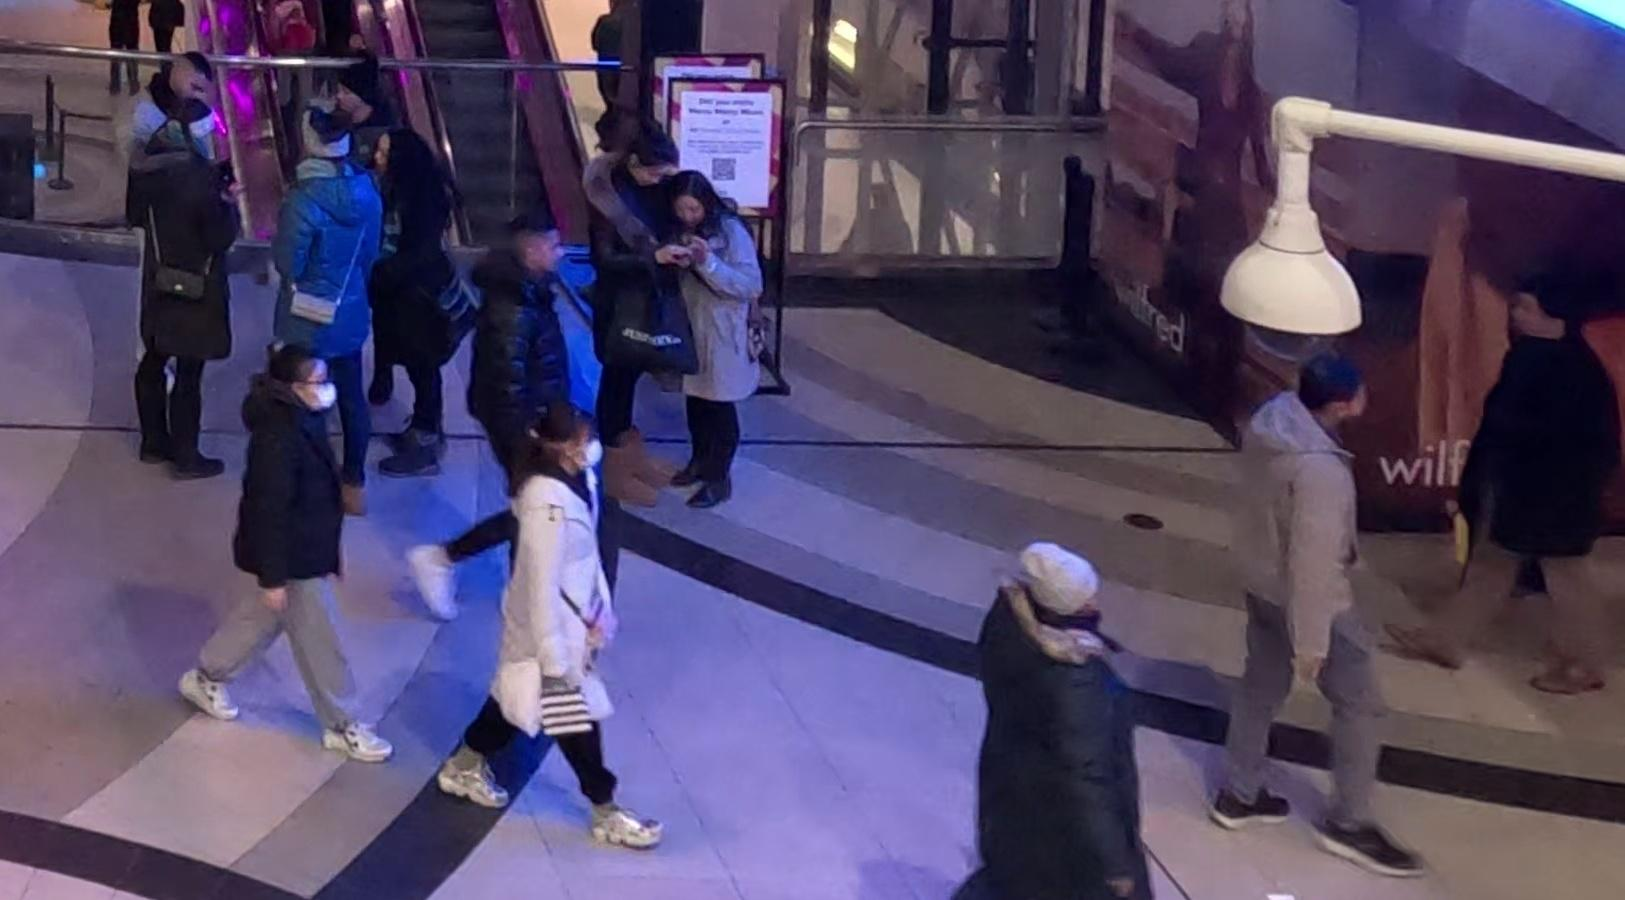person: (1222, 352, 1402, 859), (445, 407, 641, 850), (936, 536, 1167, 900), (207, 336, 389, 766), (267, 95, 390, 514), (467, 209, 630, 506), (129, 79, 247, 487), (657, 167, 787, 529)
